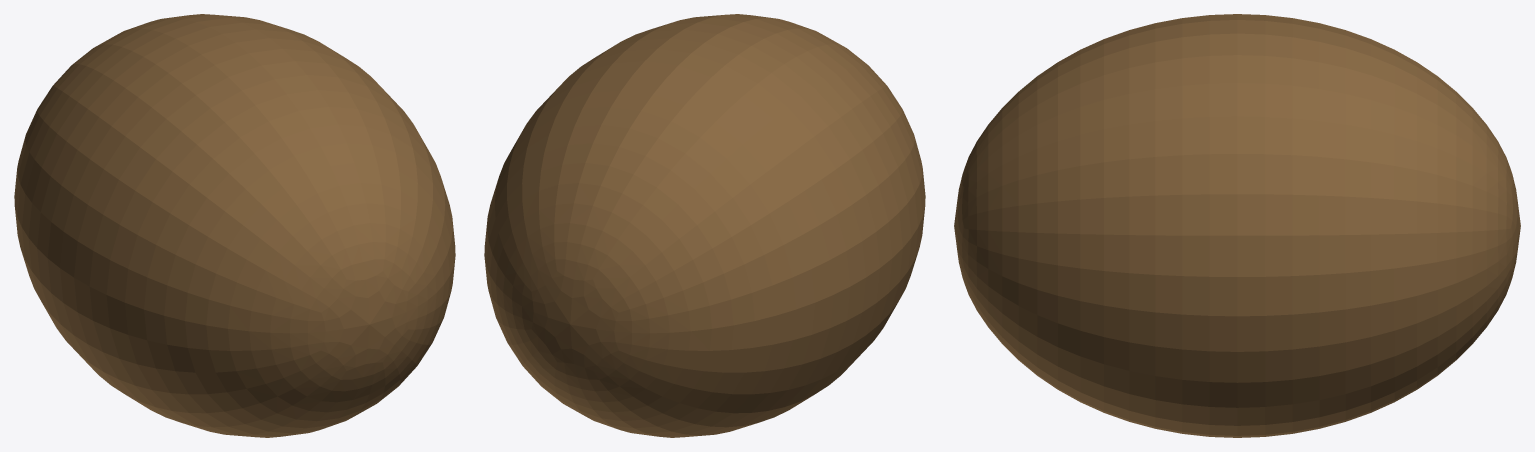
Rendered from BTSegment_joint_visu.dae.
3 renders of one model, left to right at view 1: azimuth 30°, elevation 25°; view 2: azimuth 150°, elevation 25°; view 3: azimuth 270°, elevation 25°, orthographic. The views are drawn at different scales.
Visible parts, largest first — view 1: node; view 2: node; view 3: node.
Part boxes in pixels (<box>): node: <box>14,14,455,437</box>; node: <box>484,14,925,437</box>; node: <box>954,14,1520,437</box>.
Size of the model in its own units: 0.09 by 0.09 by 0.12.
